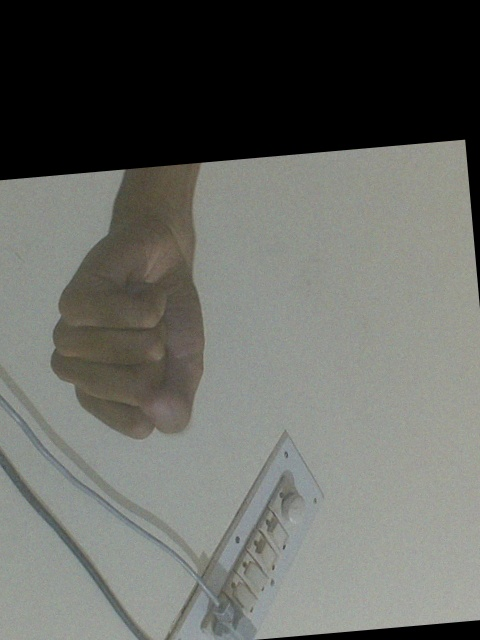hand: (46, 203, 211, 445)
